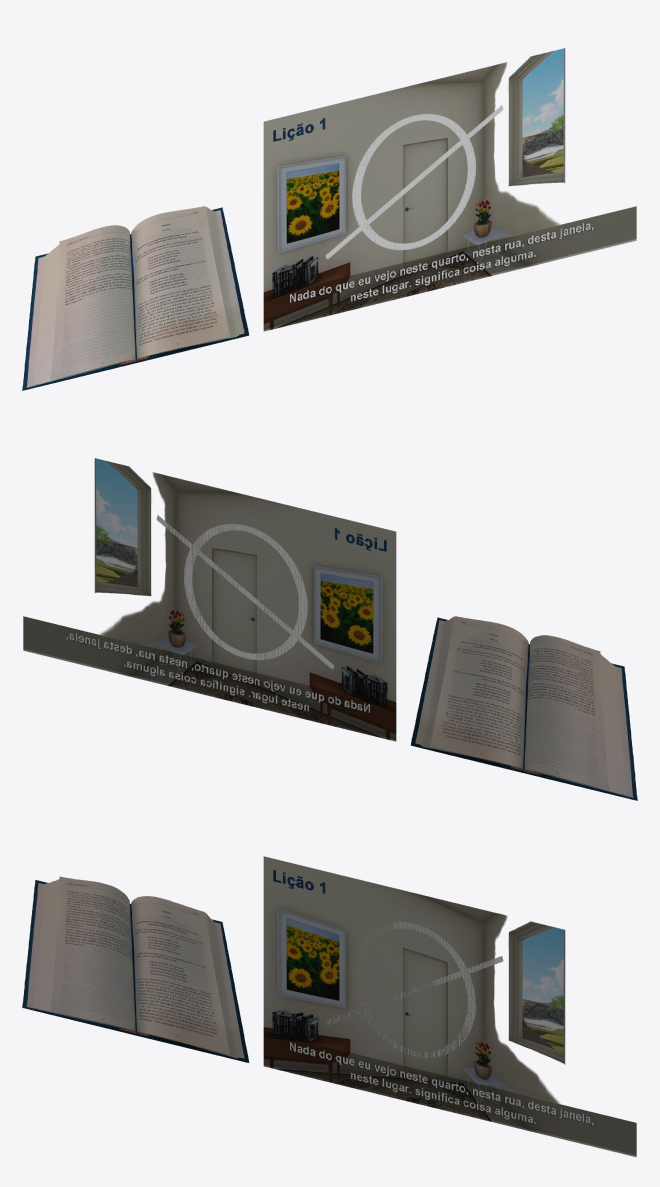
File: asset.glb
3 views of the same model, one above another, from view 1: azimuth 30°, elevation 25°; view 2: azimuth 150°, elevation 25°; view 3: azimuth 330°, elevation 25° (orthographic).
Parts seen in each view (by area): view 1: mesh_id36, mesh_id28, mesh_id26; view 2: mesh_id36, mesh_id28, mesh_id26; view 3: mesh_id36, mesh_id28, mesh_id26.
Boxes of the visible parts, box(x1,y1,x2,y2) form: mesh_id36: box(263, 48, 636, 331); mesh_id28: box(22, 206, 249, 390); mesh_id26: box(322, 105, 503, 273); mesh_id36: box(23, 458, 396, 741); mesh_id28: box(410, 616, 637, 800); mesh_id26: box(156, 515, 337, 683); mesh_id36: box(263, 856, 636, 1157); mesh_id28: box(22, 876, 249, 1062); mesh_id26: box(326, 922, 503, 1057).
Bounding box in the file's own units: 0.7867 × 0.2824 × 0.
Materials: 3 (3 with a texture image).
